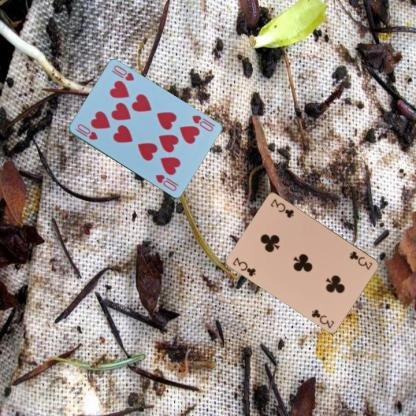10h: (73, 121, 99, 141), (189, 113, 214, 133)
3c: (347, 248, 374, 271), (231, 255, 257, 278)
